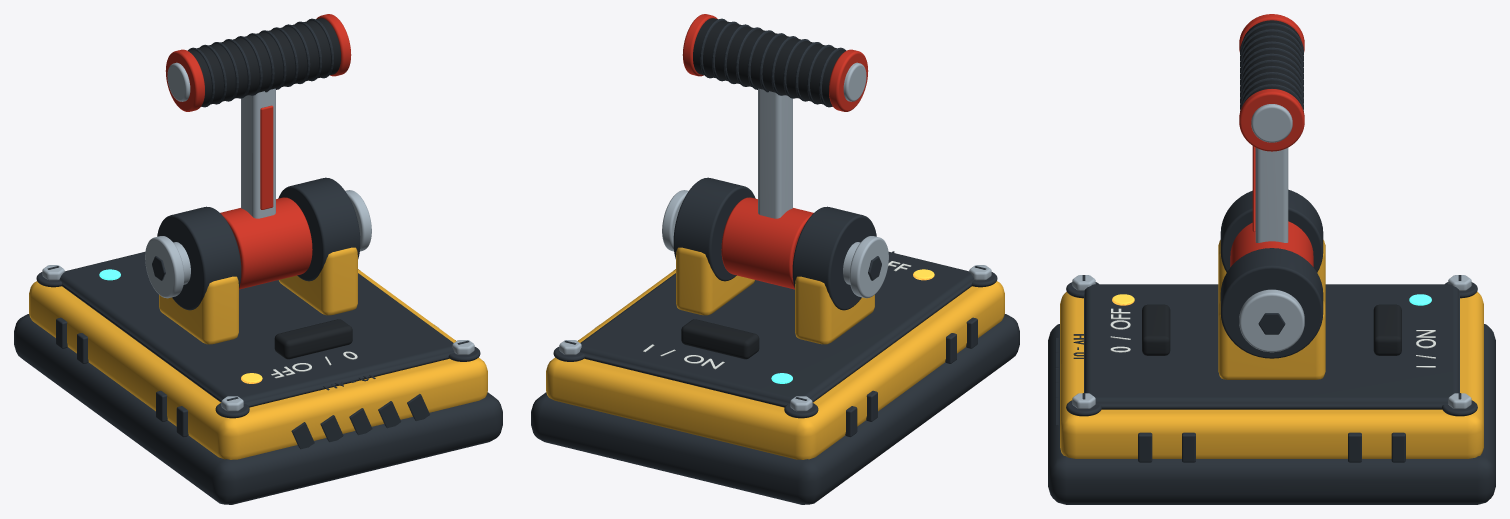
Rendered from Levier.fbx.
3 views of the same model, side by side, from view 1: azimuth 30°, elevation 25°; view 2: azimuth 150°, elevation 25°; view 3: azimuth 270°, elevation 25° (orthographic). The views are drawn at different scales.
Parts seen in each view (by area): view 1: Levier_Socle, Levier_Manche; view 2: Levier_Socle, Levier_Manche; view 3: Levier_Socle, Levier_Manche.
Part boxes in pixels (x1=…): Levier_Socle: x1=14, y1=177, x2=502, y2=504; Levier_Manche: x1=165, y1=14, x2=351, y2=289; Levier_Socle: x1=531, y1=177, x2=1019, y2=504; Levier_Manche: x1=682, y1=14, x2=868, y2=289; Levier_Socle: x1=1048, y1=189, x2=1495, y2=504; Levier_Manche: x1=1230, y1=14, x2=1313, y2=266.
Size of the model in its own units: 1.6 by 1.94 by 2.05.
